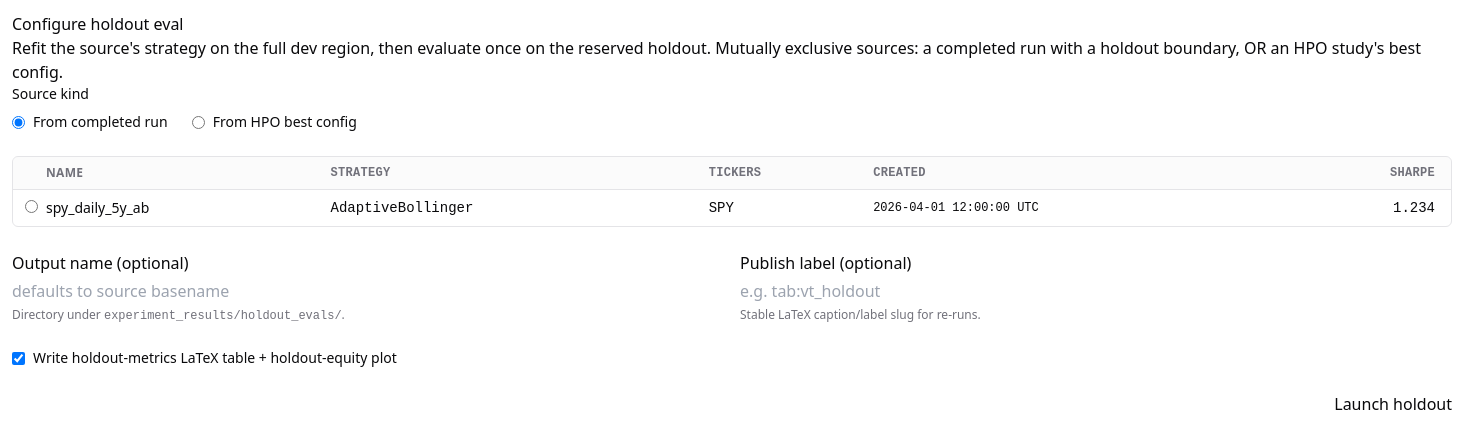
Test case: ConfigureHoldoutPage › filters HPO studies to those whose best_config reserves holdout
This screenshot has width=1464, height=427.
Click the radio button labelled "From HPO best config". click: (198, 122)
box: [192,116,205,128]
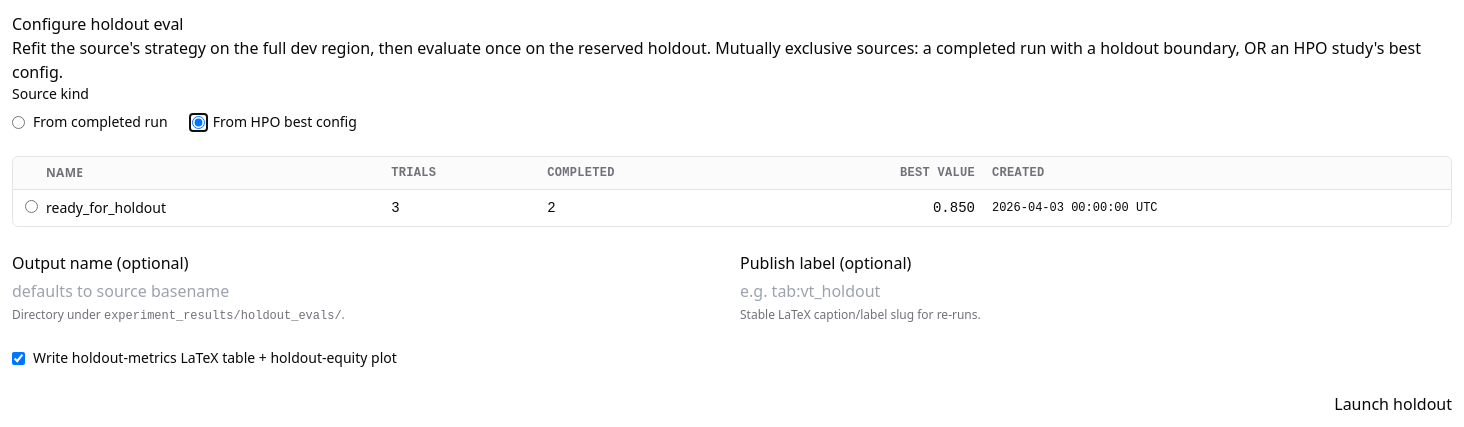
Expected: the text "ready_for_holdout" is shown, [45,190,390,226]
